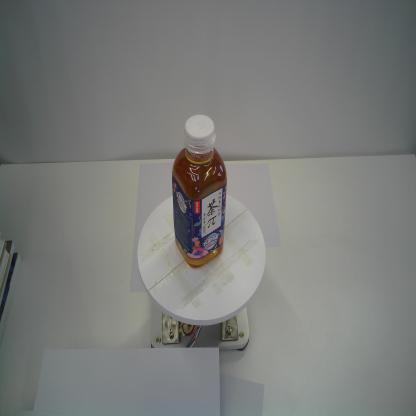Drink: (172, 114, 228, 268)
